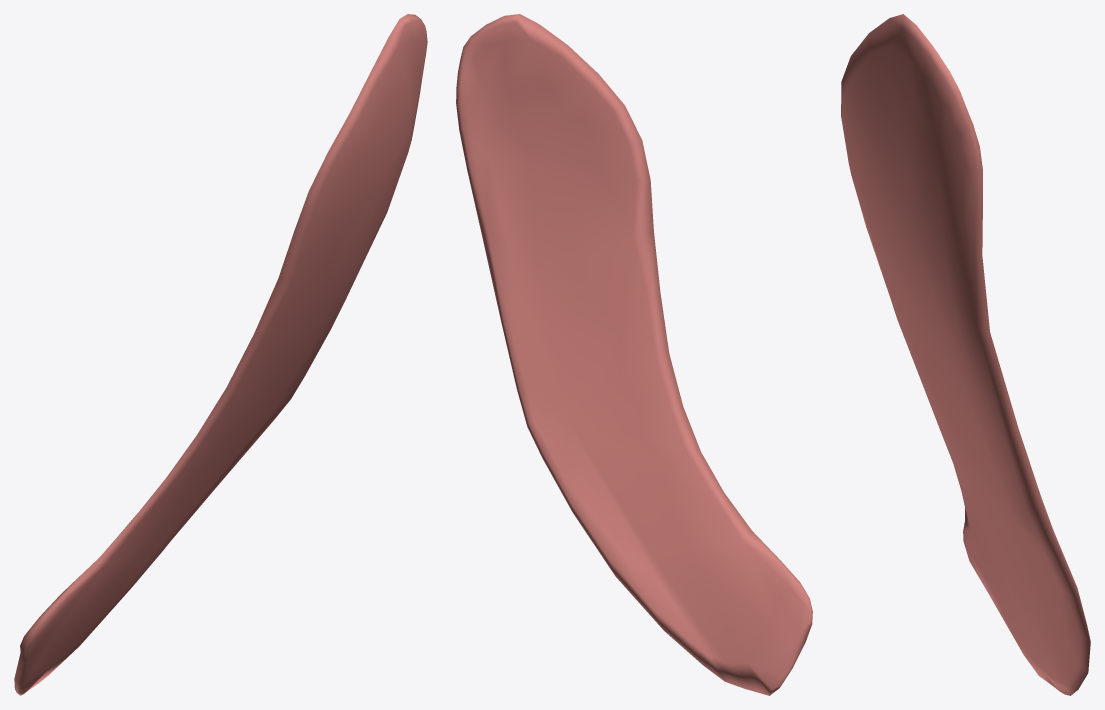
3 views of the same model, side by side, from view 1: azimuth 30°, elevation 25°; view 2: azimuth 150°, elevation 25°; view 3: azimuth 270°, elevation 25° (orthographic). The views are drawn at different scales.
Parts seen in each view (by area): view 1: ZA_22c3bbb5e8421b17; view 2: ZA_22c3bbb5e8421b17; view 3: ZA_22c3bbb5e8421b17.
Part boxes in pixels (<box>): ZA_22c3bbb5e8421b17: <box>14,14,427,695</box>; ZA_22c3bbb5e8421b17: <box>456,14,812,695</box>; ZA_22c3bbb5e8421b17: <box>841,14,1090,695</box>.
Size of the model in its own units: 0.0189 by 0.0289 by 0.00733.
